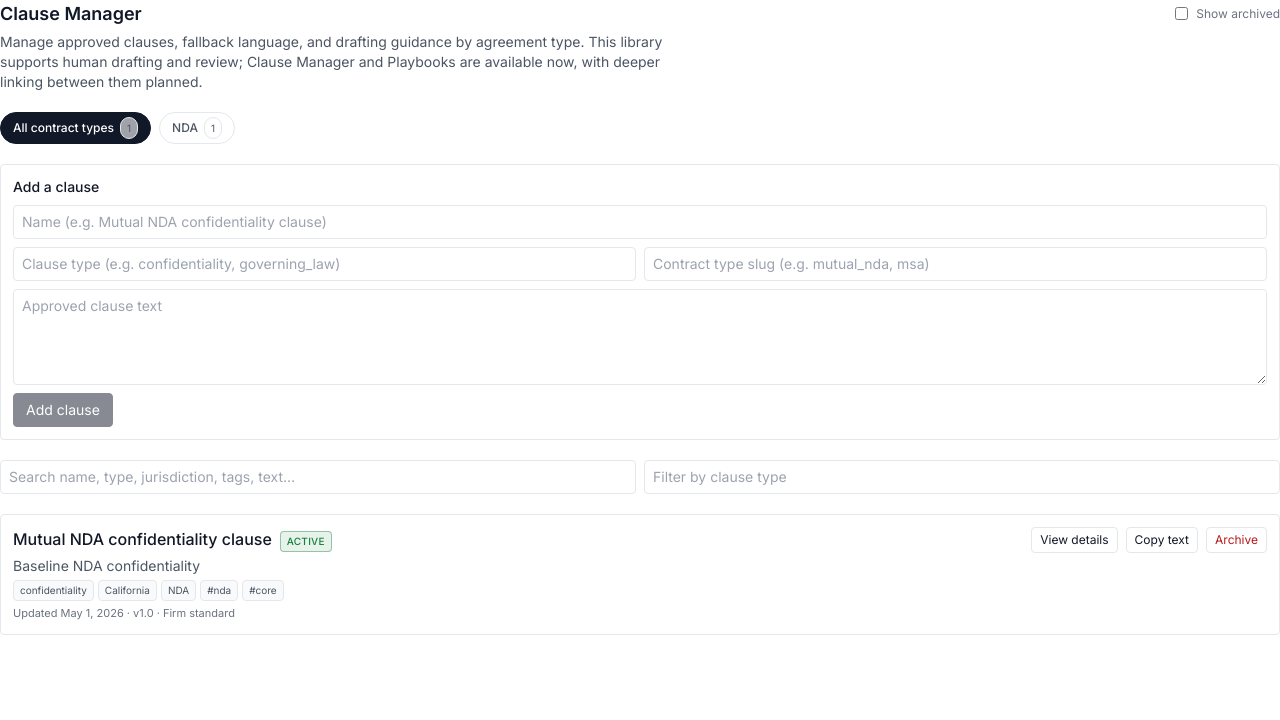
Test: ClauseLibraryPage › closes on Escape from view mode
expect the text "Mutual NDA confidentiality clause" is shown: met, box [13, 527, 272, 551]
Click the button with test id "clause-toggle" at {"x": 1074, "y": 540}, box [1031, 527, 1118, 553]
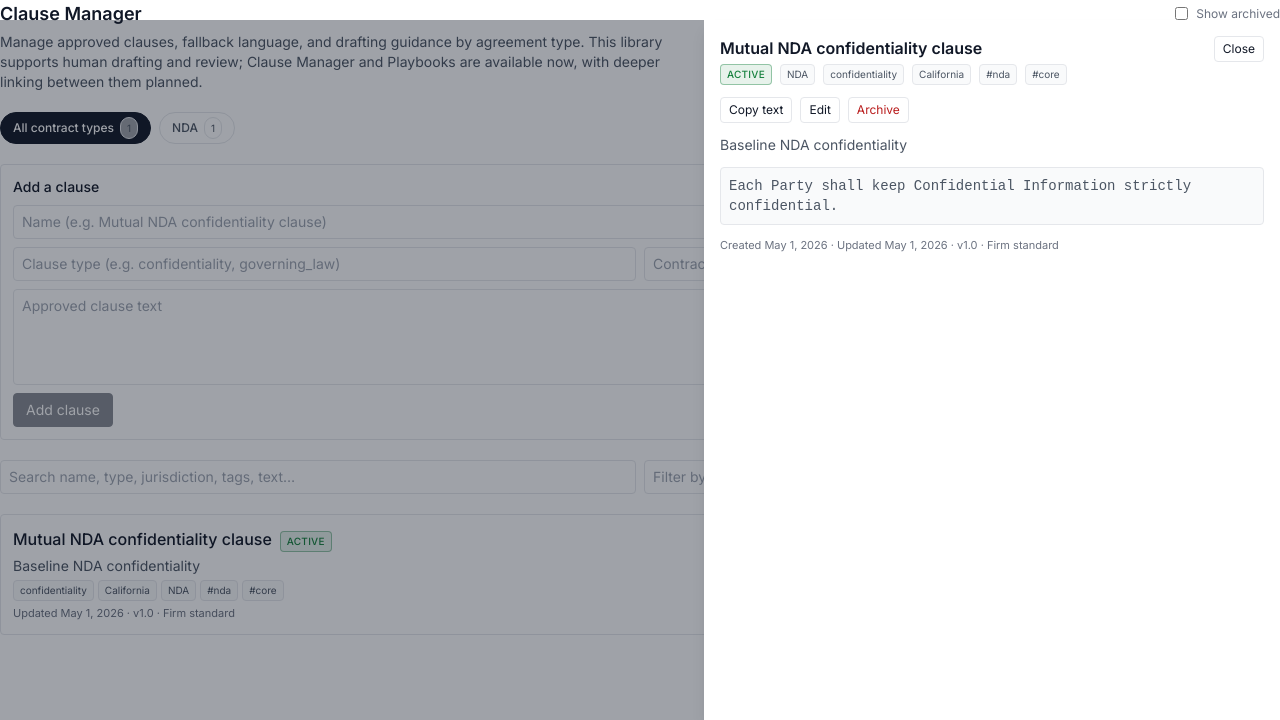
Press Escape in the dialog with test id "clause-detail"
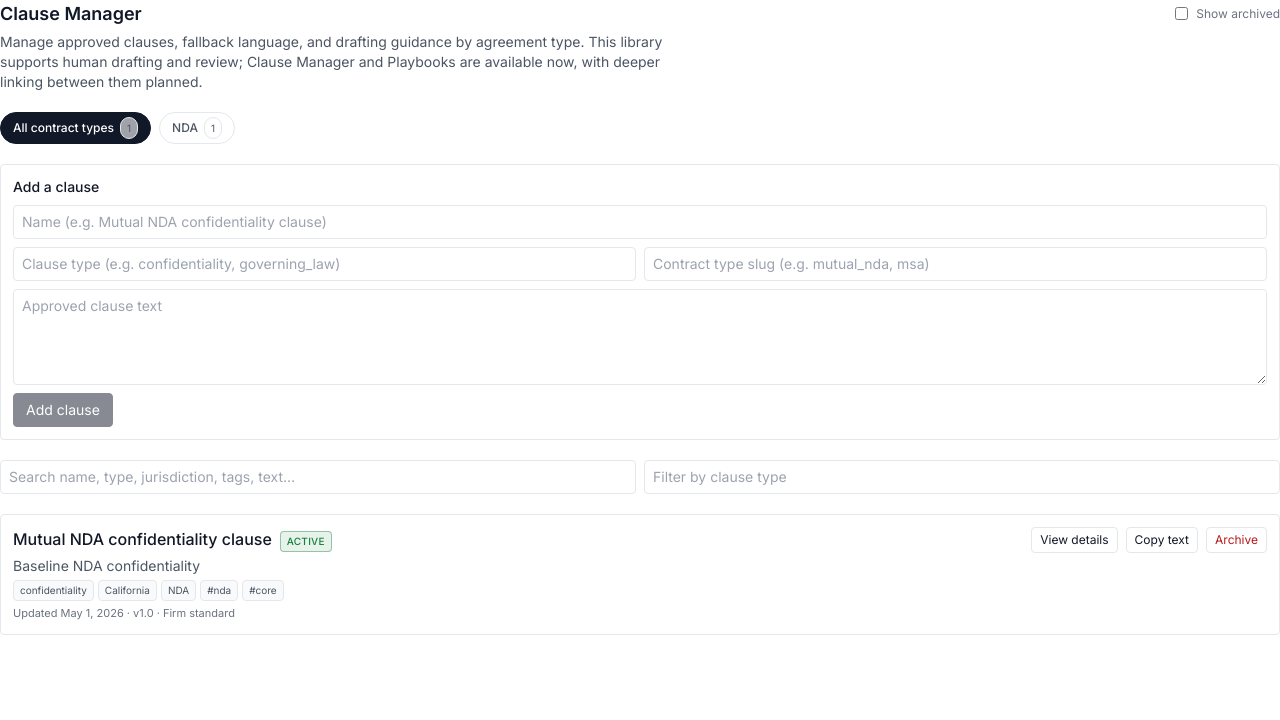
expect the dialog with test id "clause-detail" is gone: met
